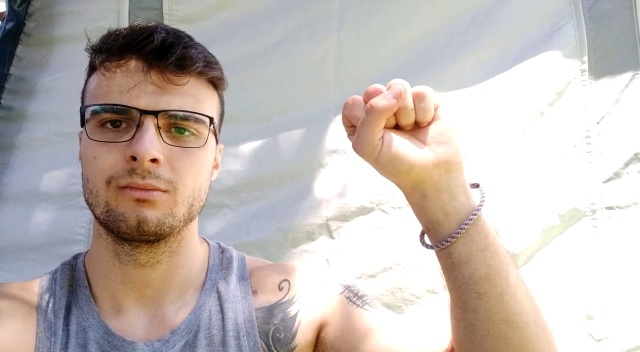Fist: (329, 76, 476, 211)
